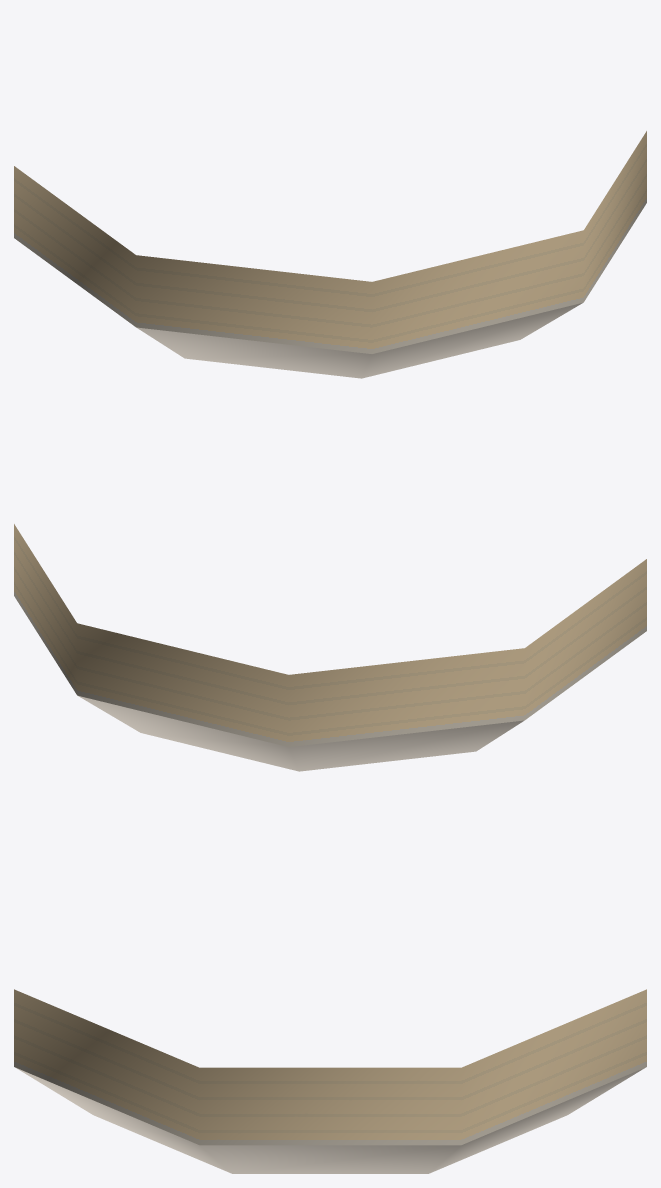
The model's file is kd_stage_135ded_4_80.glb.
3 views of the same model, one above another, from view 1: azimuth 30°, elevation 25°; view 2: azimuth 150°, elevation 25°; view 3: azimuth 270°, elevation 25° (orthographic). The views are drawn at different scales.
Parts seen in each view (by area): view 1: kd_stage_135ded_4_80; view 2: kd_stage_135ded_4_80; view 3: kd_stage_135ded_4_80.
Boxes of the visible parts, x1,y1,x2,y2 form: kd_stage_135ded_4_80: (14,131,646,378); kd_stage_135ded_4_80: (14,524,646,771); kd_stage_135ded_4_80: (14,989,646,1173).
Size of the model in its own units: 0.7391 by 0.18 by 0.7391.
1 material, 1 textured.
